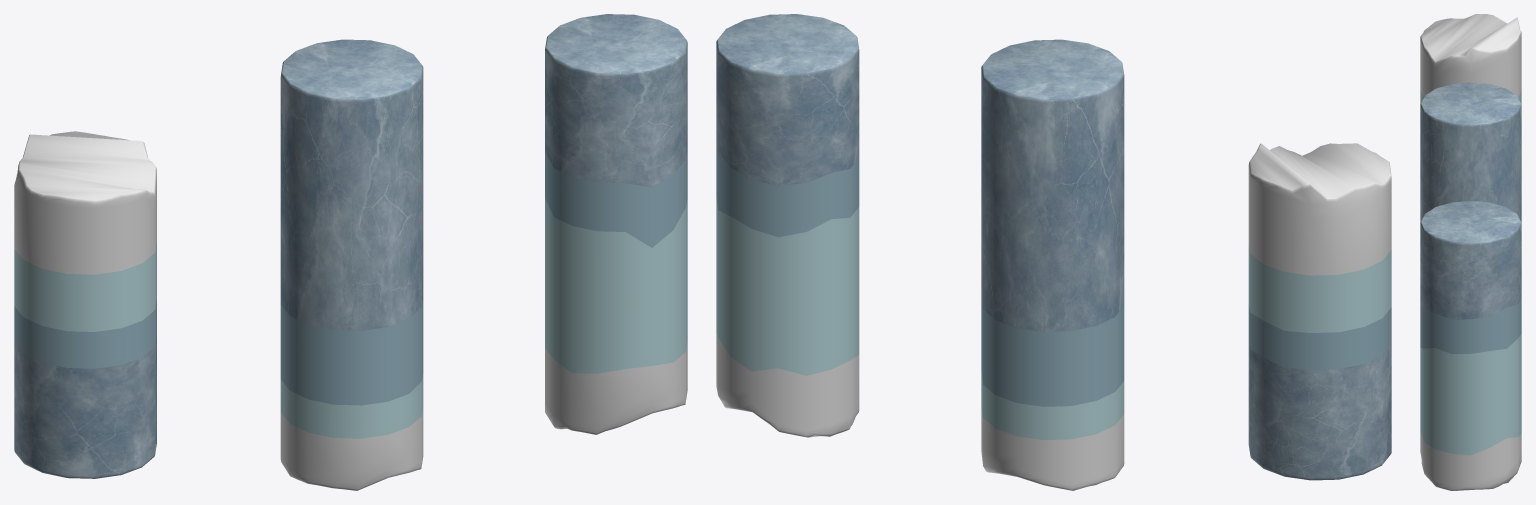
The model's file is dry_ice.fbx.
3 views of the same model, side by side, from view 1: azimuth 30°, elevation 25°; view 2: azimuth 150°, elevation 25°; view 3: azimuth 270°, elevation 25° (orthographic). The views are drawn at different scales.
Parts seen in each view (by area): view 1: Cylinder, Cylinder.002, Cylinder.001; view 2: Cylinder, Cylinder.002, Cylinder.001; view 3: Cylinder.002, Cylinder, Cylinder.001.
Part boxes in pixels (x1,y1,x2,y2): Cylinder: (280, 39, 423, 490); Cylinder.002: (545, 14, 687, 434); Cylinder.001: (14, 131, 156, 478); Cylinder: (981, 39, 1124, 490); Cylinder.002: (716, 14, 859, 437); Cylinder.001: (1248, 143, 1391, 480); Cylinder.002: (1420, 201, 1521, 490); Cylinder: (1420, 82, 1521, 222); Cylinder.001: (1420, 14, 1521, 103).
Size of the model in its own units: 353 by 211 by 67.2.
Materials: 4 (1 with a texture image).
